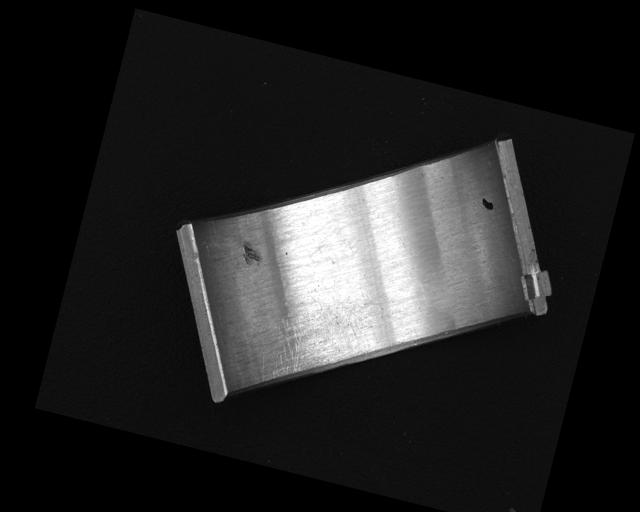blot: (479, 195, 496, 212)
bruise: (237, 241, 266, 268)
scratch: (255, 291, 372, 402)
